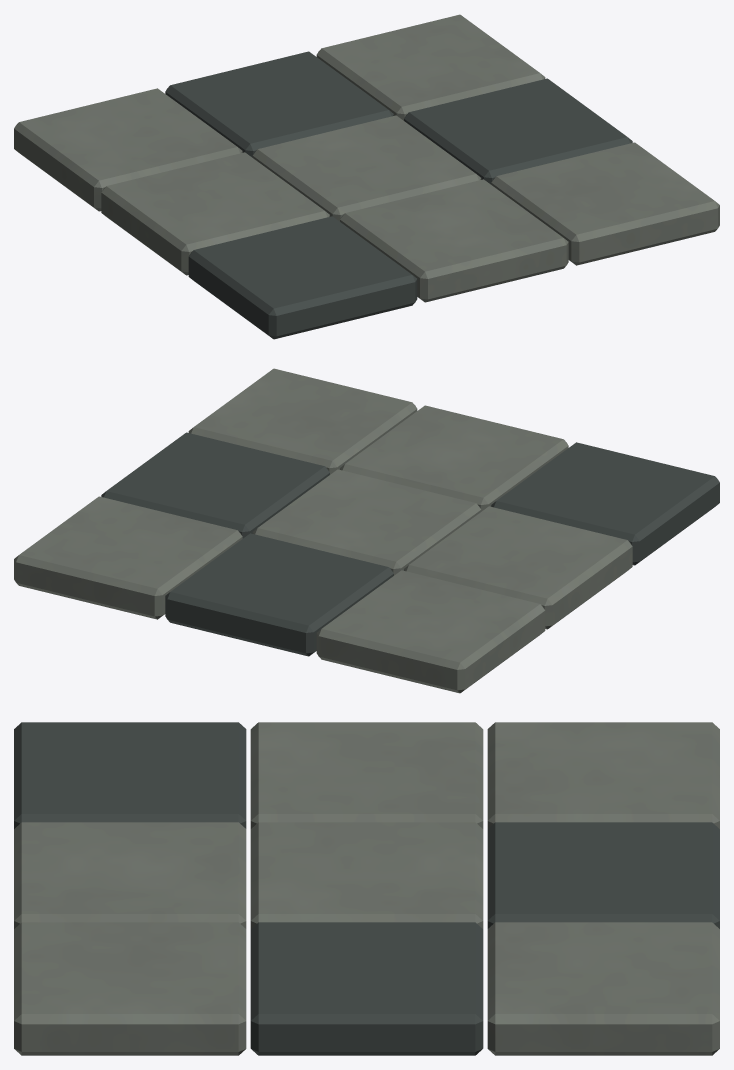
File: AR_Floor_Stone_2m.glb
3 views of the same model, one above another, from view 1: azimuth 30°, elevation 25°; view 2: azimuth 150°, elevation 25°; view 3: azimuth 270°, elevation 25° (orthographic). The views are drawn at different scales.
Visible parts, largest first — view 1: AR_Floor_Stone_2m; view 2: AR_Floor_Stone_2m; view 3: AR_Floor_Stone_2m.
Boxes of the visible parts, left/top/right/bottom form: AR_Floor_Stone_2m: left=14, top=14, right=719, bottom=339; AR_Floor_Stone_2m: left=14, top=368, right=719, bottom=693; AR_Floor_Stone_2m: left=14, top=722, right=719, bottom=1055.
Bounding box in the file's own units: 1.99 × 0.13 × 1.99.
Materials: 2 (1 with a texture image).
